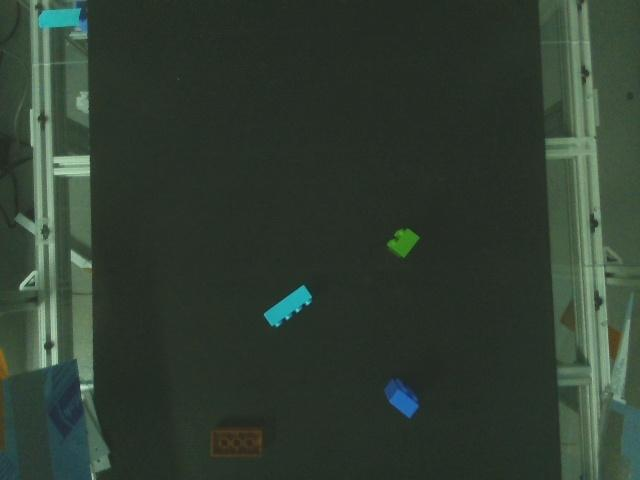plastic: (264, 284, 314, 329), (209, 429, 263, 459), (384, 378, 421, 419), (387, 226, 420, 258)
